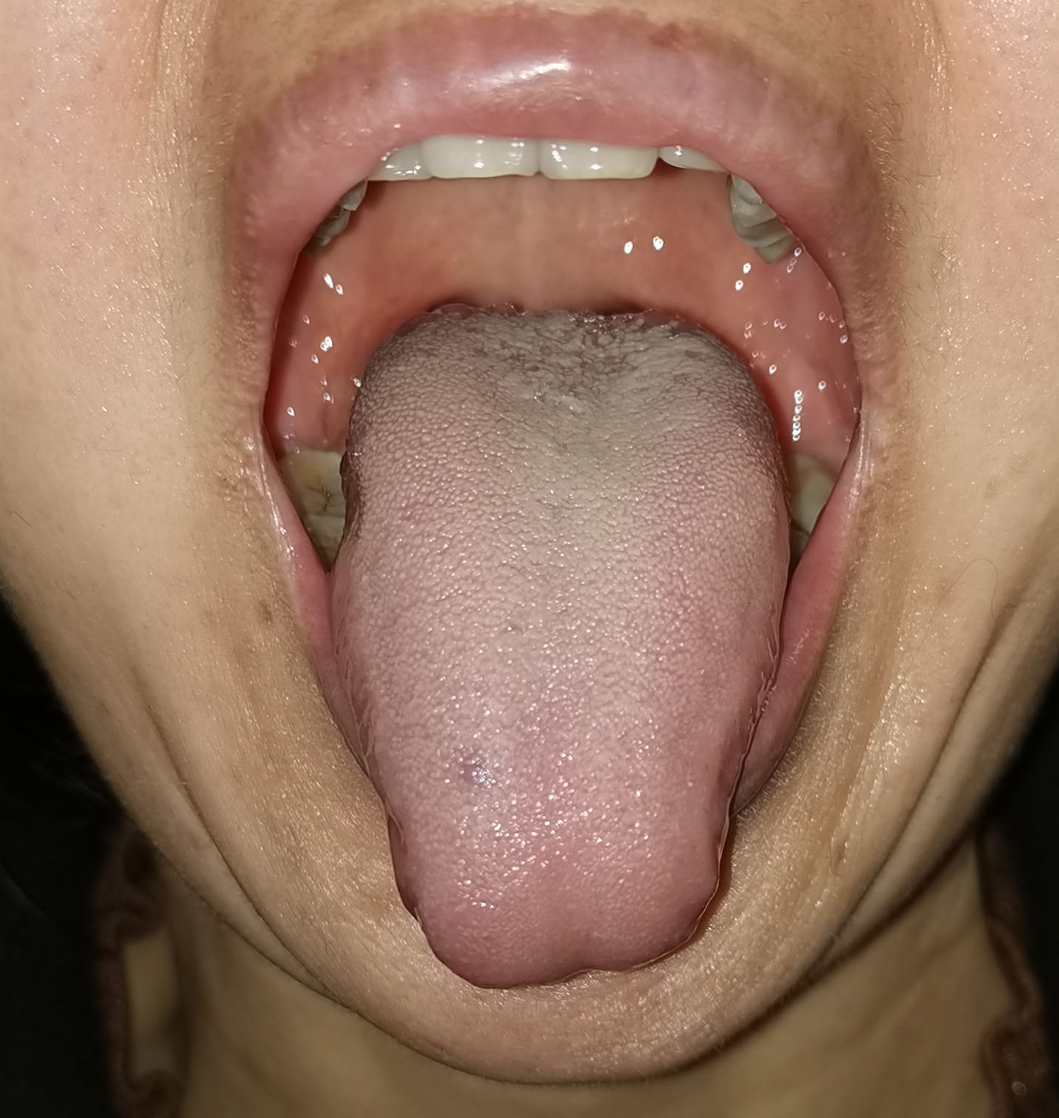baitaishe: (331, 303, 791, 987)
